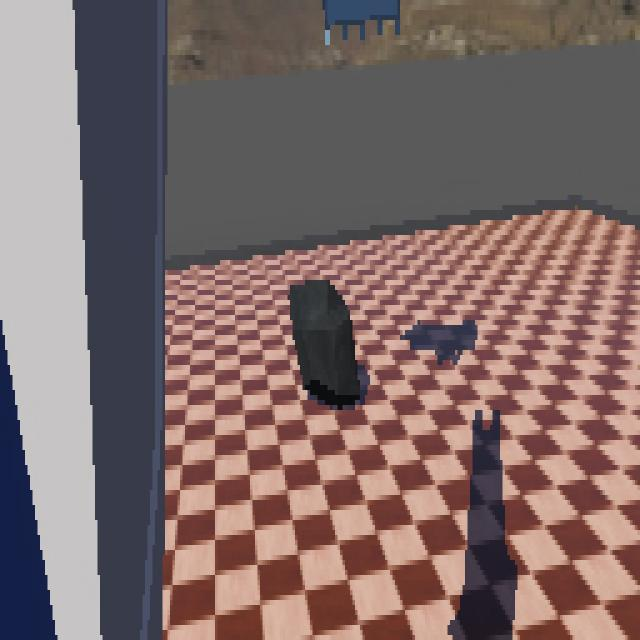rock: (288, 276, 362, 410)
